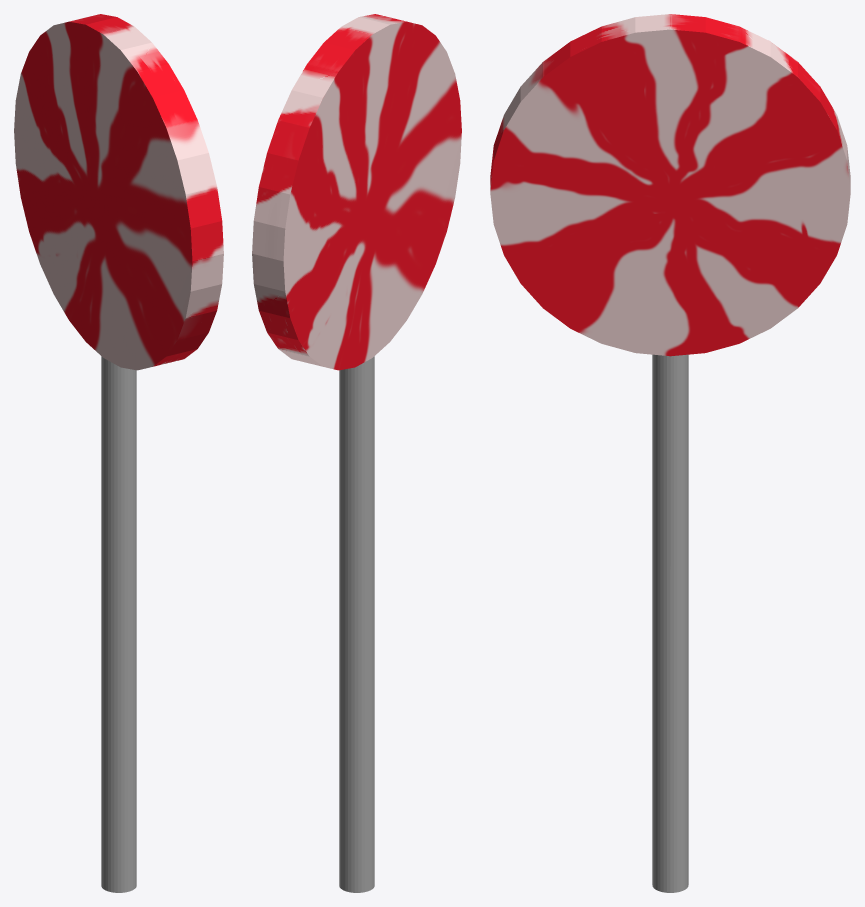
Rendered from lolipop1kb.fbx.
The picture shows the model from 3 angles, left to right: view 1: azimuth 30°, elevation 25°; view 2: azimuth 150°, elevation 25°; view 3: azimuth 270°, elevation 25°; orthographic projection.
Visible parts, largest first — view 1: Cylinder.001, Cylinder; view 2: Cylinder.001, Cylinder; view 3: Cylinder.001, Cylinder.
Part boxes in pixels (x1,y1,x2,y2): Cylinder.001: (14, 14, 223, 370); Cylinder: (101, 356, 136, 892); Cylinder.001: (252, 14, 461, 370); Cylinder: (339, 356, 374, 892); Cylinder.001: (490, 14, 850, 356); Cylinder: (652, 354, 688, 892).
Size of the model in its own units: 204 by 5286 by 2000.
Materials: 2 (1 with a texture image).
